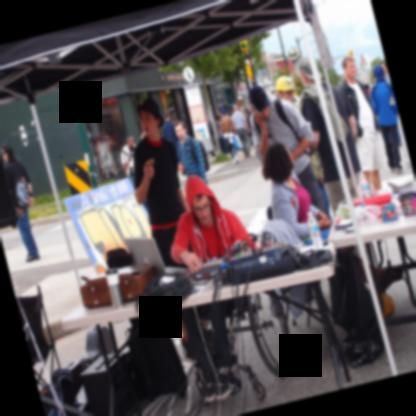backpack: (127, 313, 189, 401), (253, 97, 301, 142), (197, 140, 210, 172), (190, 137, 199, 164)
handbag: (224, 117, 231, 153)
